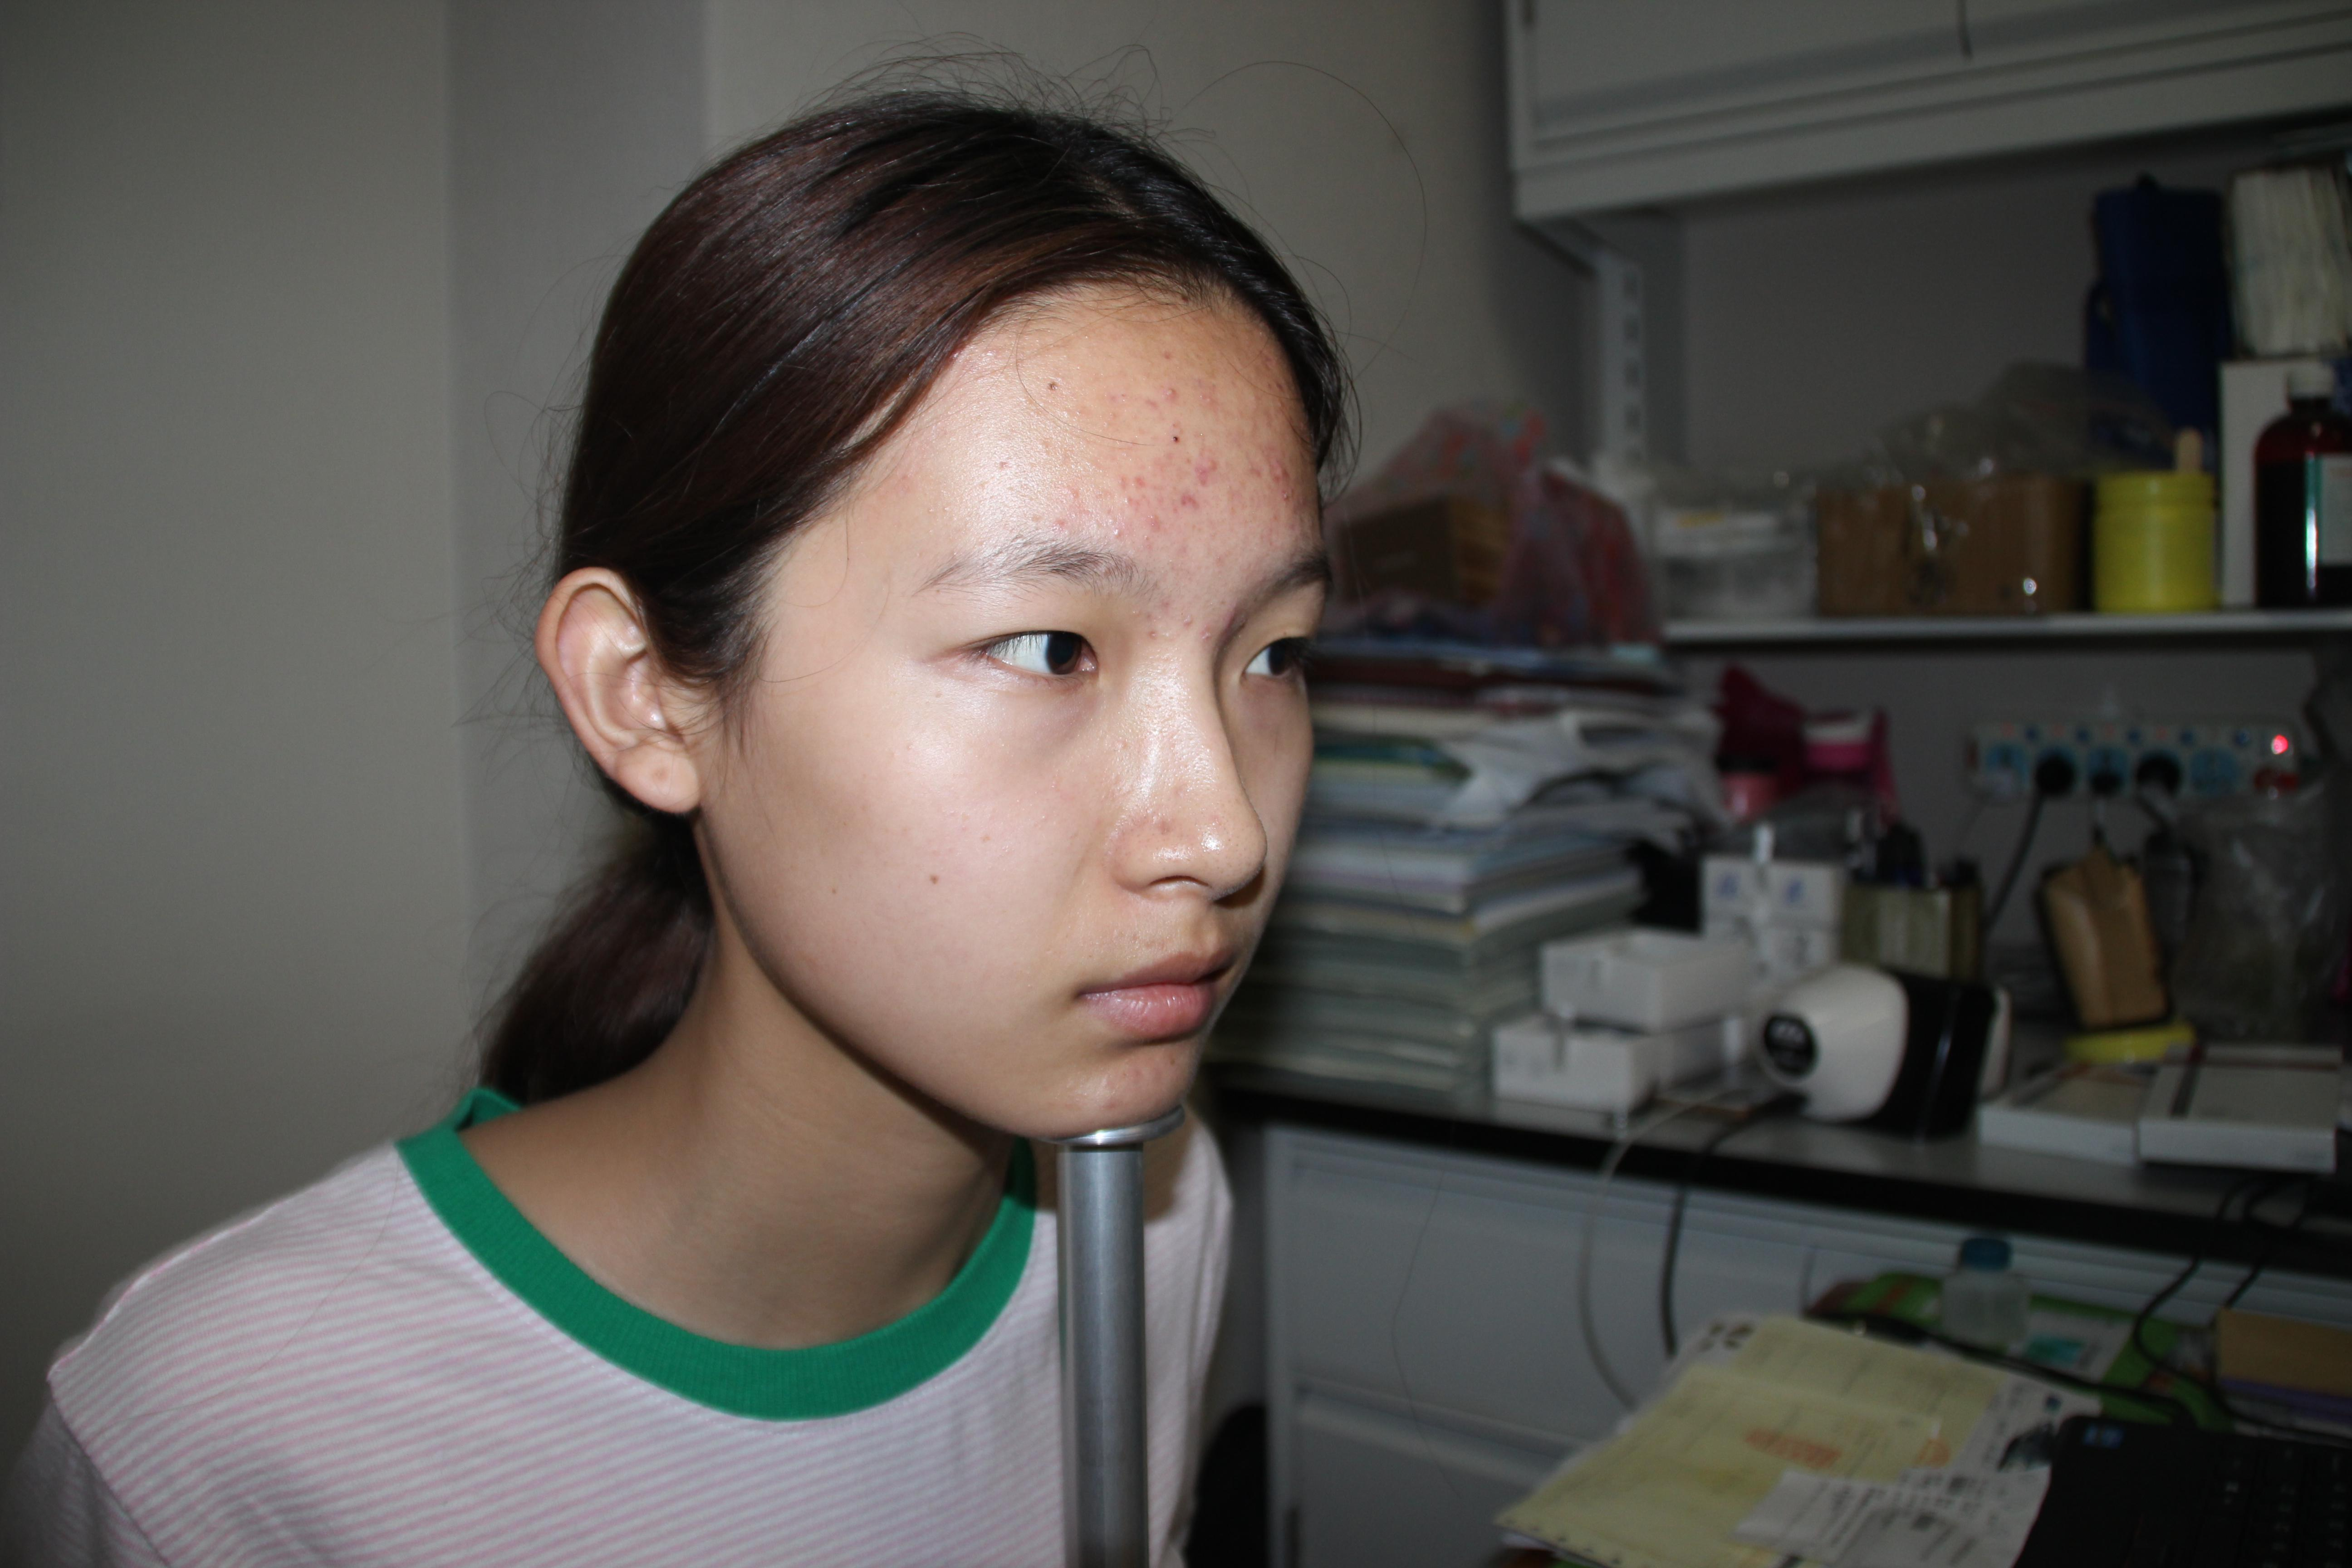fore: (1109, 458, 1153, 506), (1138, 378, 1197, 411), (1148, 581, 1188, 630), (1193, 443, 1225, 499), (1094, 1083, 1138, 1123), (1141, 509, 1178, 542), (1160, 486, 1200, 514), (1260, 458, 1297, 486)
